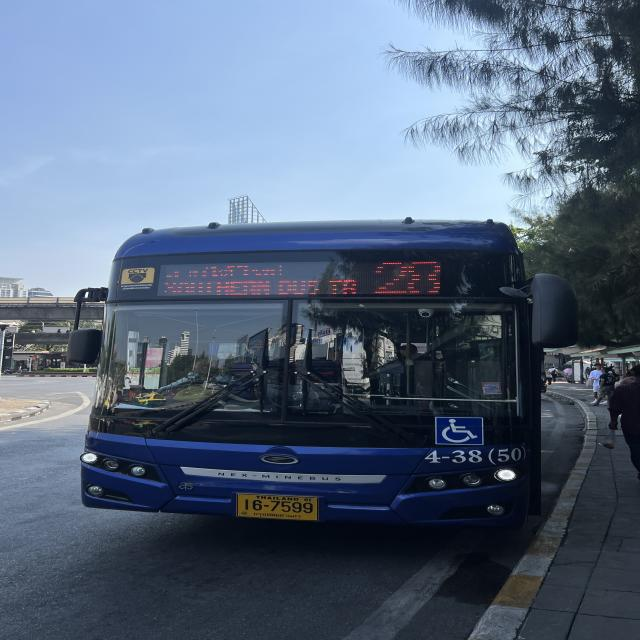Bus Line Number: (366, 256, 454, 298)
Bus Side Number: (422, 446, 528, 467)
Destination Sign: (153, 258, 359, 300)
TSB-Bus: (79, 221, 577, 531)
